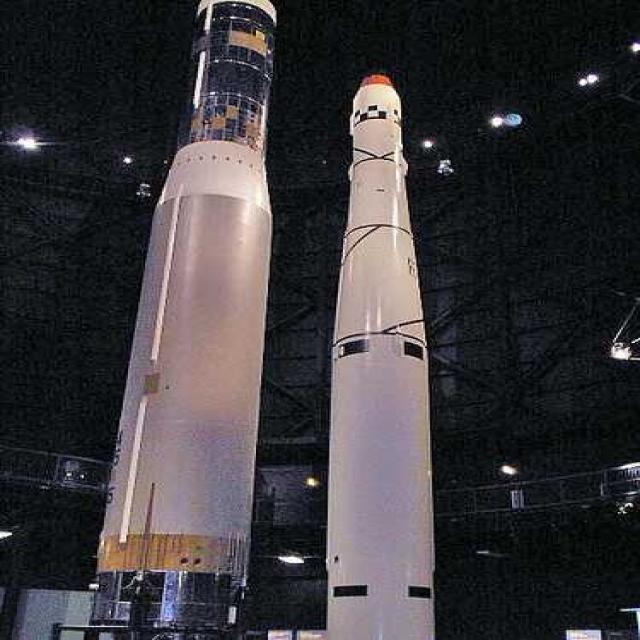missile: (77, 6, 282, 630), (336, 72, 436, 640)
